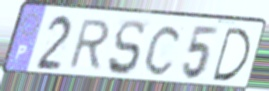2: (33, 13, 74, 74)
5: (181, 24, 221, 82)
C: (142, 23, 184, 78)
D: (210, 26, 253, 84)
R: (65, 18, 113, 72)
S: (105, 18, 146, 78)
